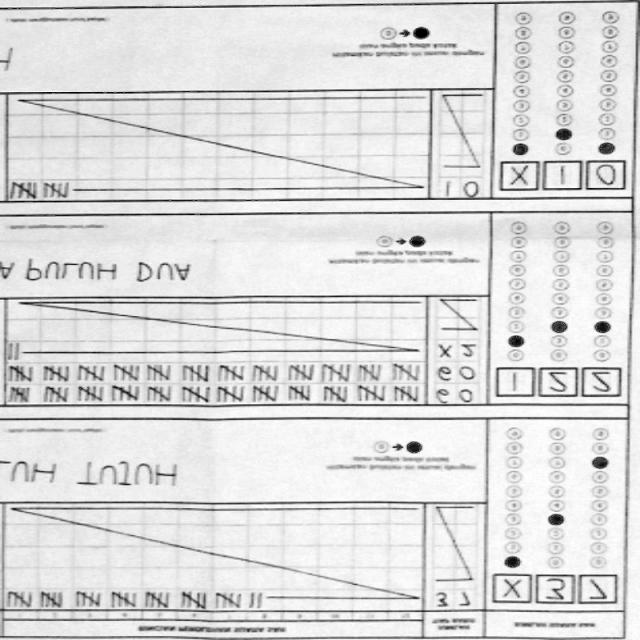Suara: (488, 568, 622, 610), (492, 364, 626, 406), (492, 157, 626, 198)
